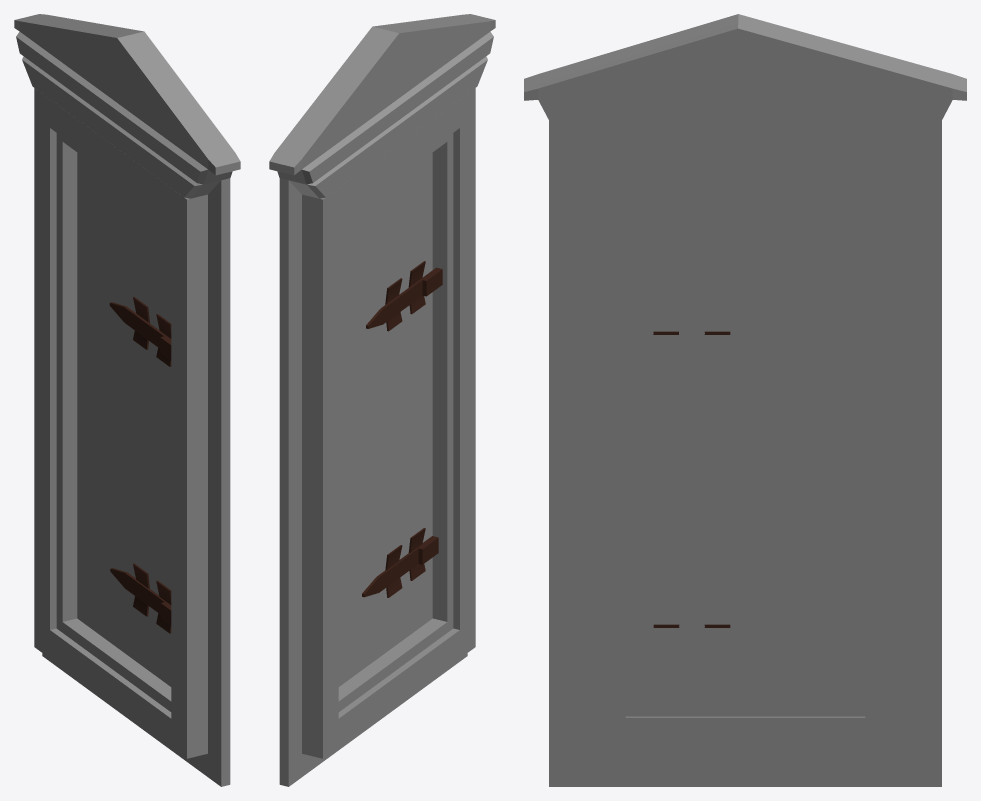
File: Door_LOD0_2.FBX
3 renders of one model, left to right at view 1: azimuth 30°, elevation 25°; view 2: azimuth 150°, elevation 25°; view 3: azimuth 270°, elevation 25°, orthographic. The views are drawn at different scales.
Visible parts, largest first — view 1: Plane023; view 2: Plane023; view 3: Plane023.
Part boxes in pixels (bbox=[...]): Plane023: bbox=[14, 14, 240, 786]; Plane023: bbox=[269, 14, 495, 786]; Plane023: bbox=[524, 14, 966, 786].
Bounding box in the file's own units: 4.48 × 90.27 × 47.75.
